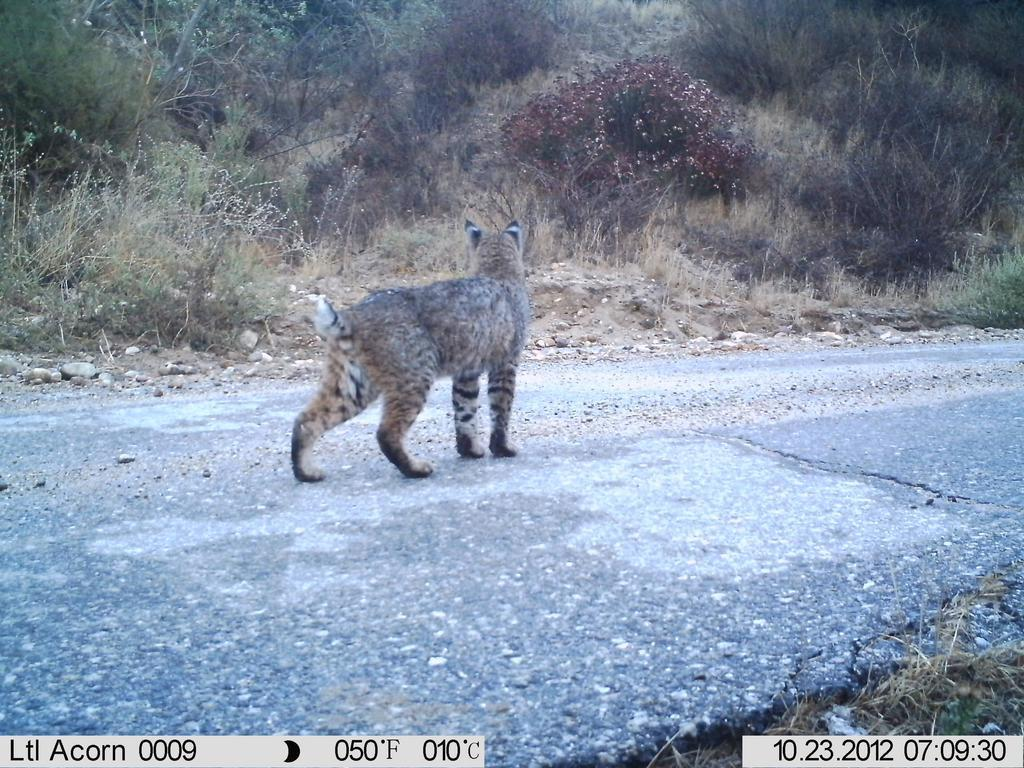bobcat: (273, 213, 564, 489)
